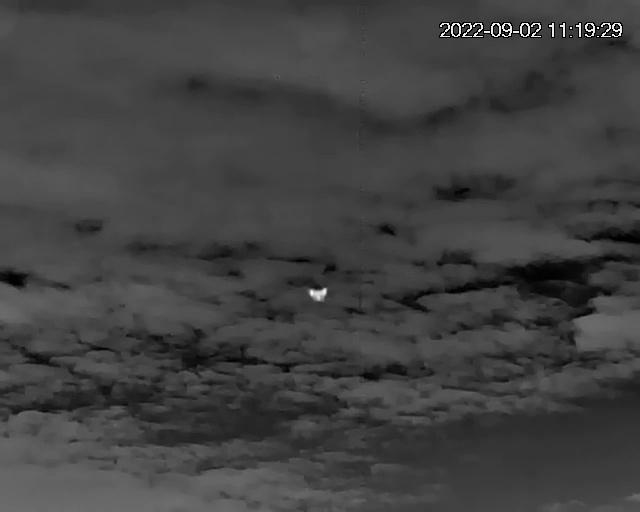DJI-Phantom: (309, 285, 333, 304)
